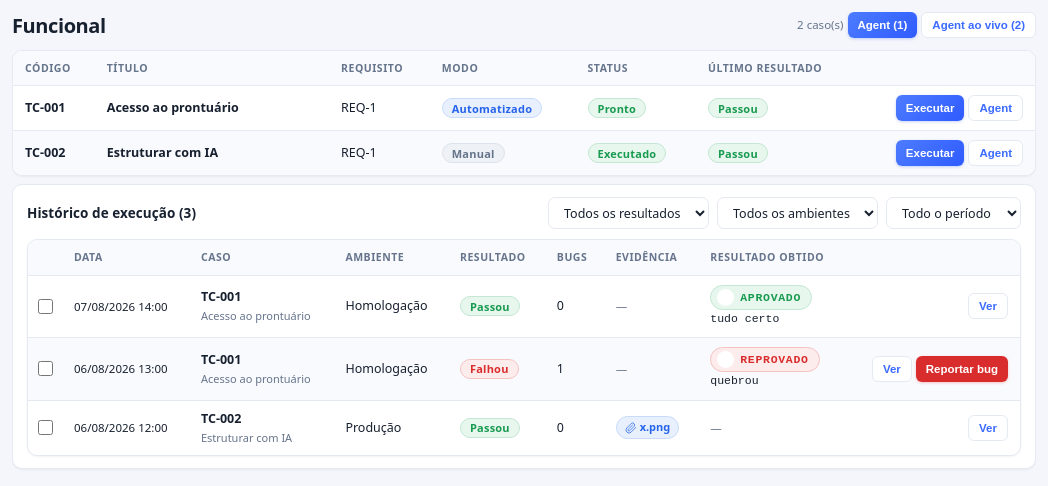
Scenario: Execution — histórico com filtros e paginação › filtra por período (hoje)
Expected: the heading "Histórico de execução (3)" is shown, [27,203,196,224]
Select "Hoje" in the dropdown named "Filtrar por período" at (954, 213), box [886,197,1021,229]
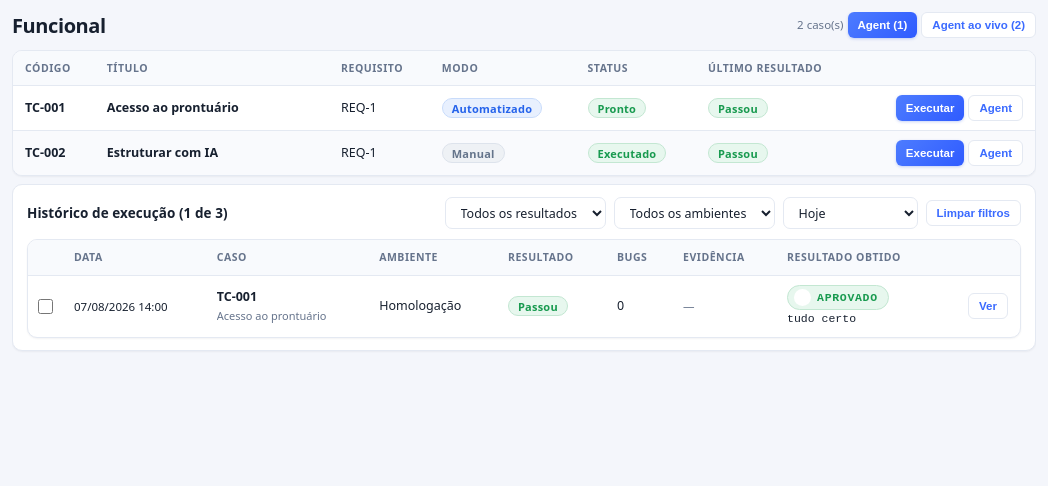
Expected: the text "tudo certo" is shown, [787,312,856,325]
Result: the heading "Histórico de execução (1 de 3)" is shown at [27,203,228,224]
Result: the text "quebrou" is gone
